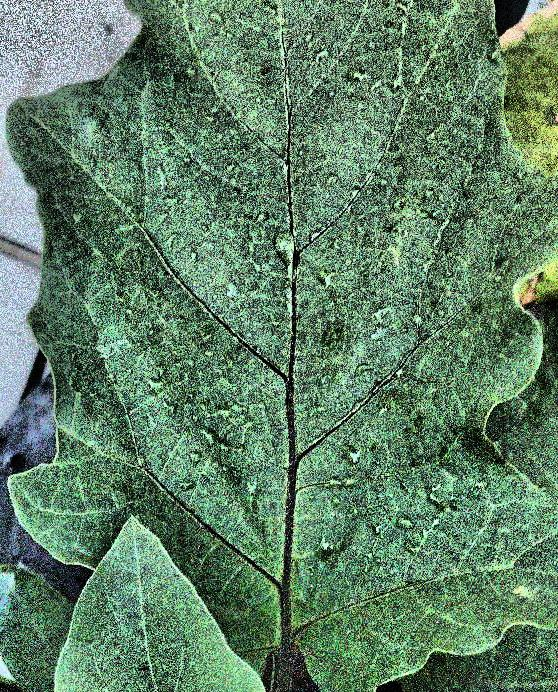HEALTHY: (0, 1, 558, 692)
